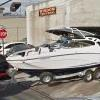Boat: (4, 30, 99, 91)
